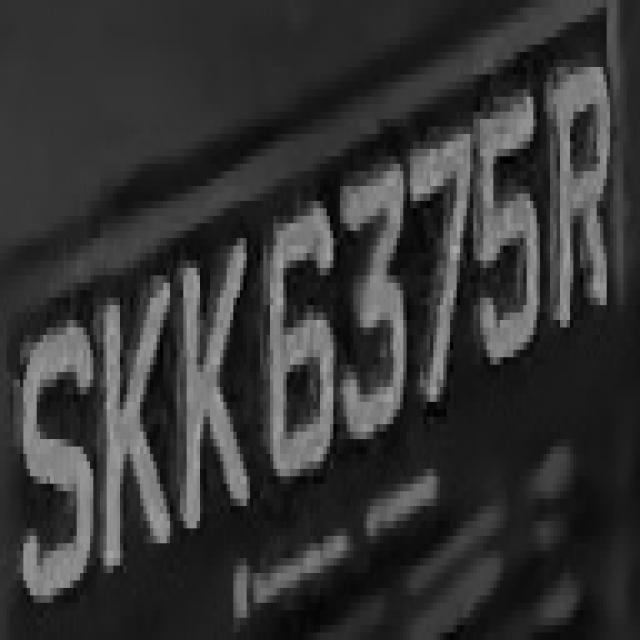3: (330, 142, 410, 476)
5: (470, 97, 547, 387)
6: (263, 186, 337, 499)
7: (386, 126, 476, 410)
K: (90, 245, 170, 588), (180, 201, 253, 543)
R: (540, 37, 613, 350)
S: (17, 298, 96, 618)
